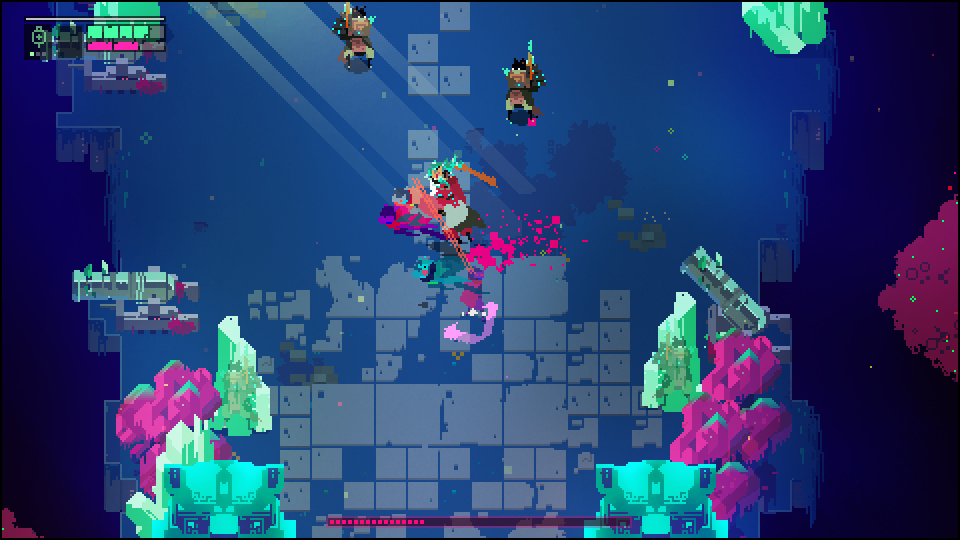hanged_man: (417, 153, 504, 245)
player: (390, 179, 446, 218)
